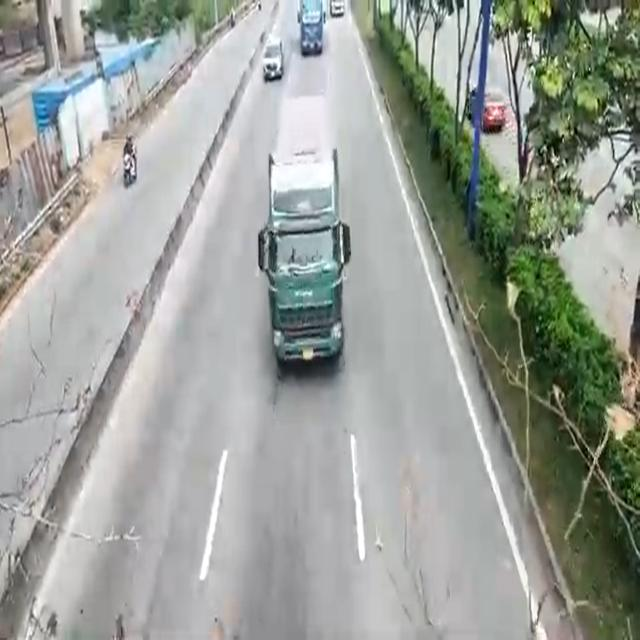car: (263, 36, 283, 82)
motorbike: (120, 131, 138, 189)
truck: (272, 94, 344, 382), (300, 0, 322, 60)
